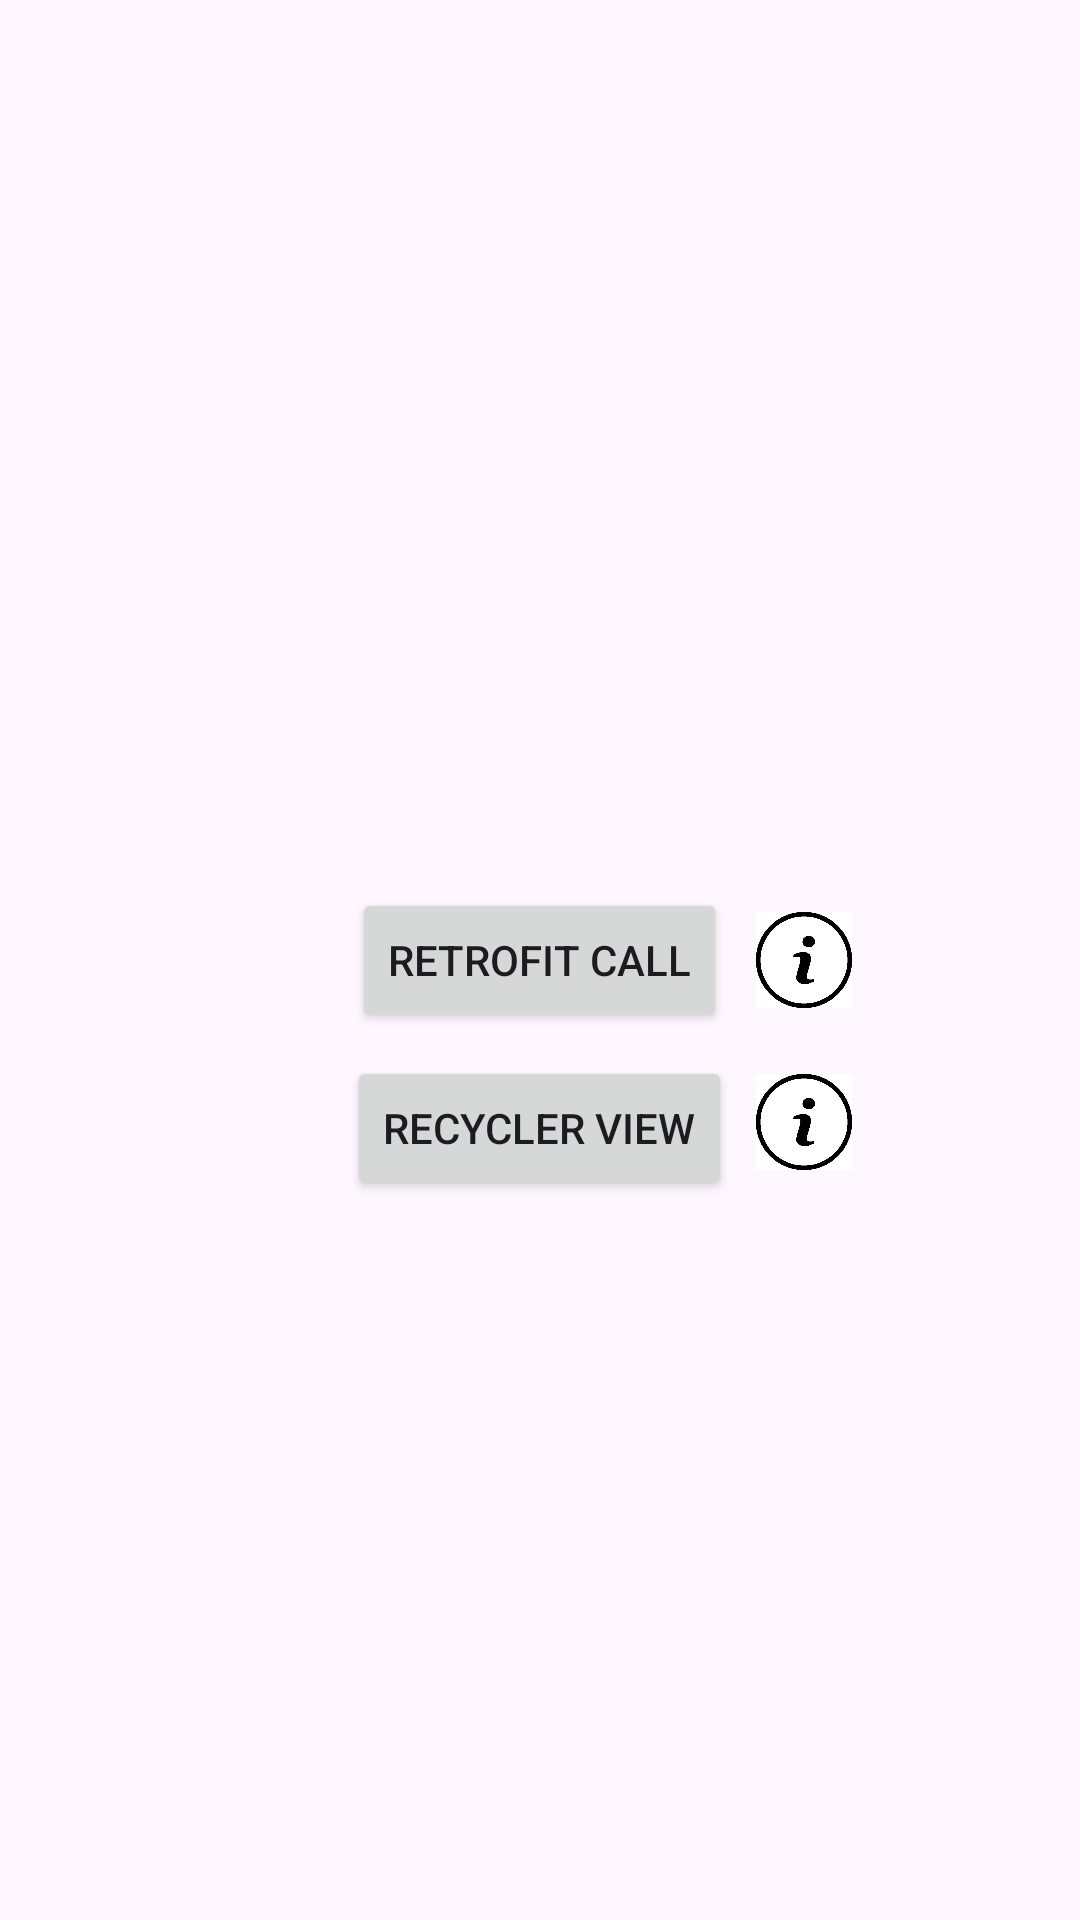

Icon click points for this 1080x1920 phone screenshot, format point (x, y):
info: point (804, 960), point (804, 1122)
